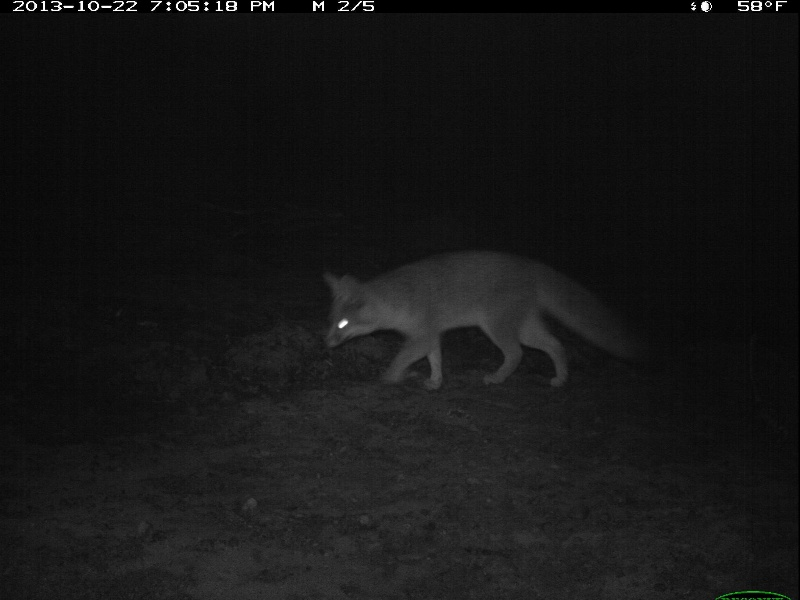fox: (314, 251, 651, 393)
